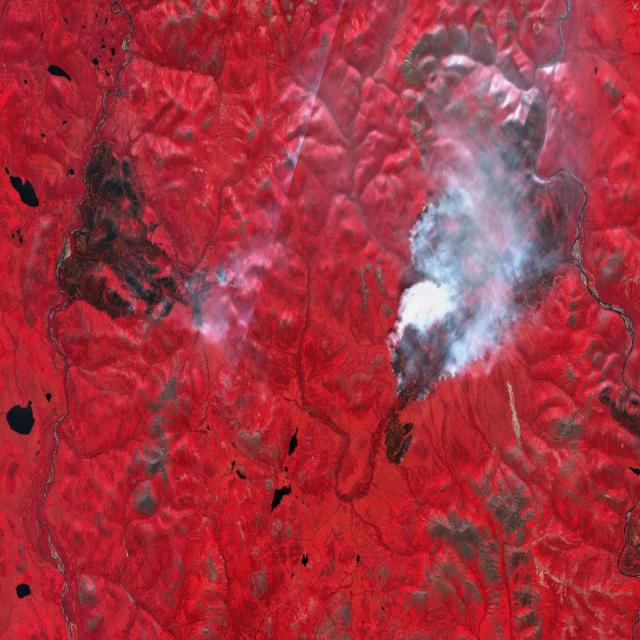fire: (382, 188, 584, 408), (174, 256, 242, 335)
